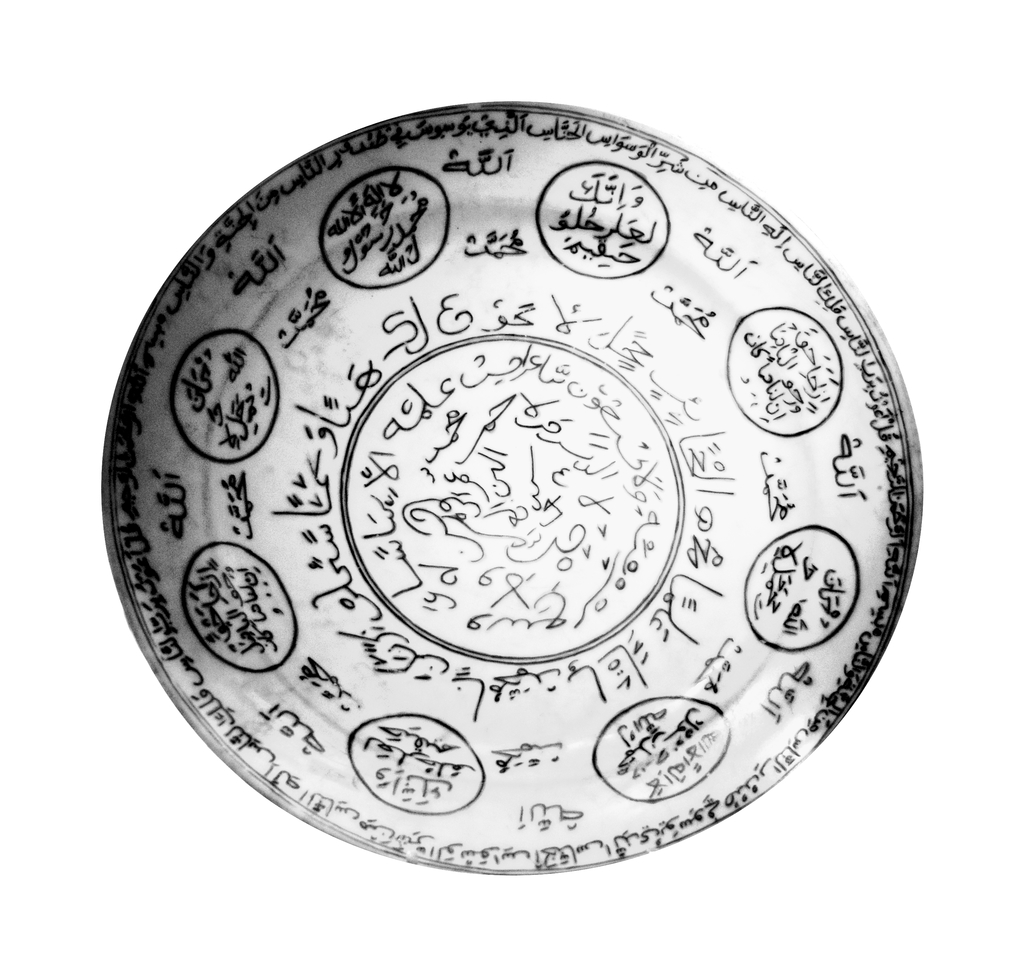plate: (96, 92, 923, 855)
